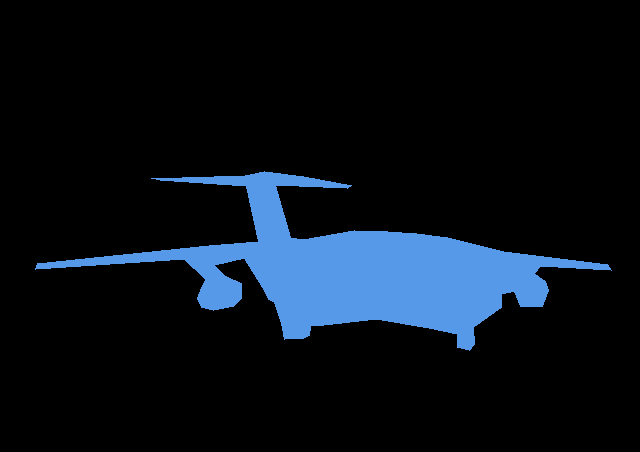Airplane: (35, 171, 611, 350)
